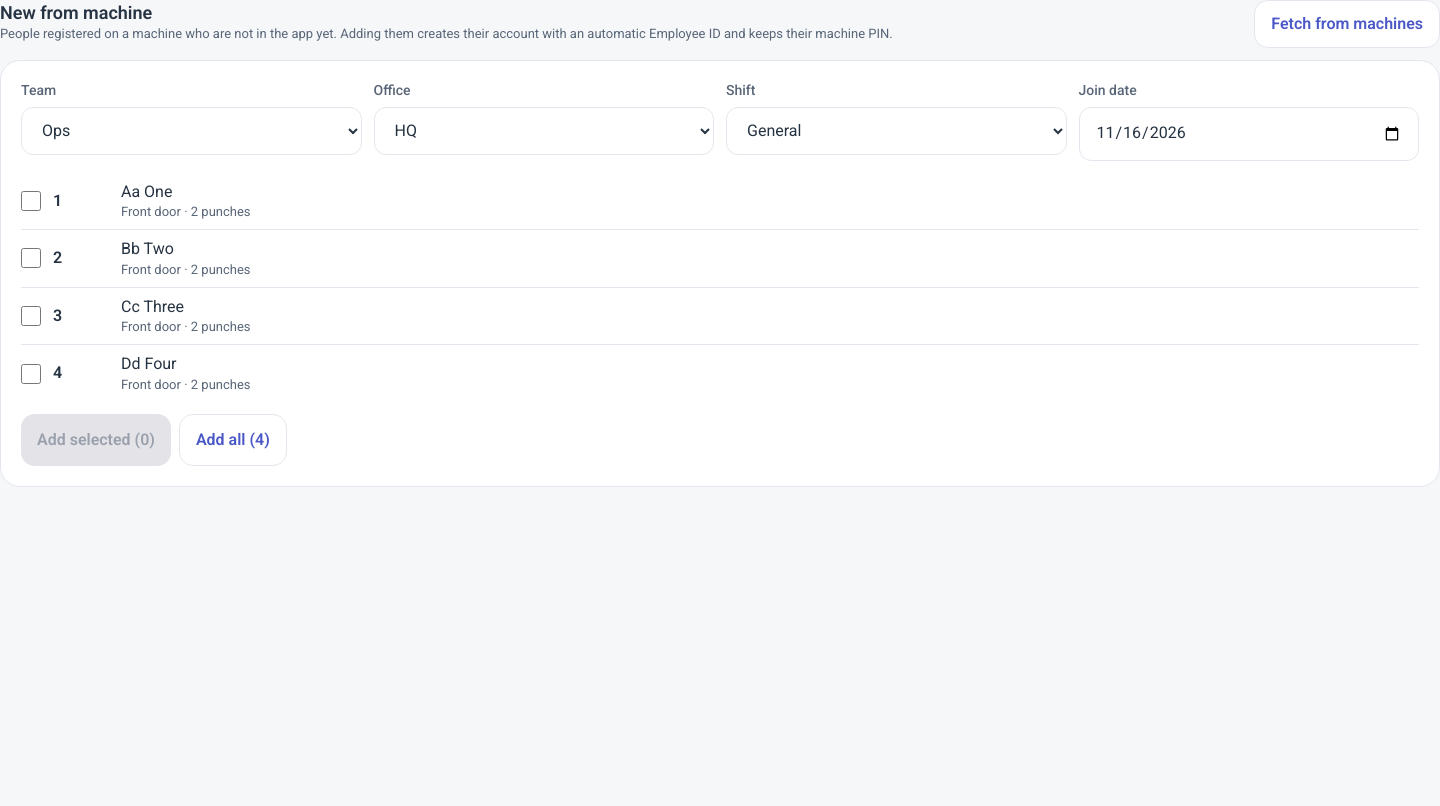
New from machine (screen) › Add all keeps going past one failure and stops at the employee limit
Click the button "Add all (4)". click: coordinates (233, 440)
box: [179, 414, 287, 466]
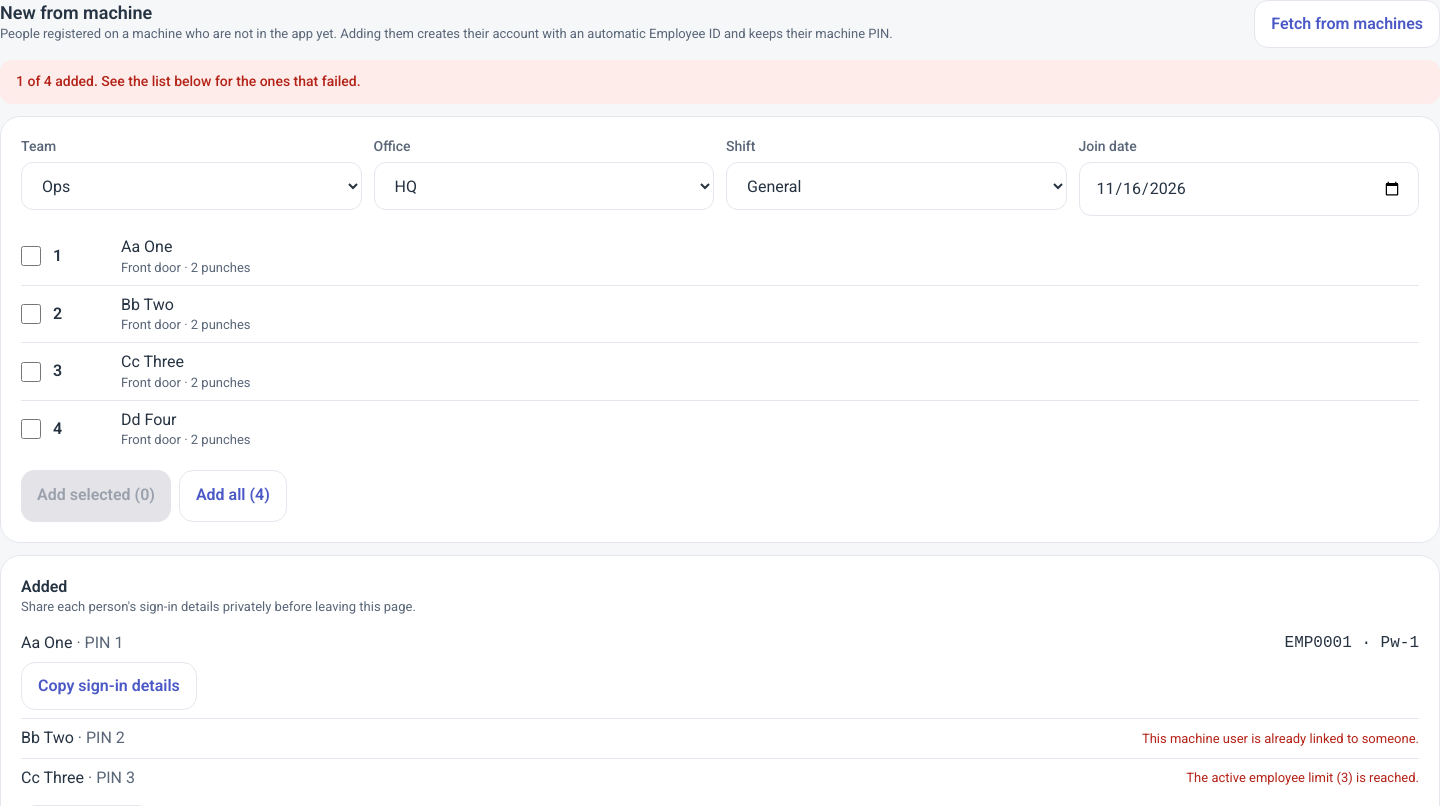
Expected: the text "1 of 4 added. See the list below for the ones that failed." is shown, [0, 60, 1439, 104]
Expected: the text "This machine user is already linked to someone." is shown, [1142, 730, 1419, 748]
Expected: the text "The active employee limit (3) is reached." is shown, [1186, 769, 1419, 787]
